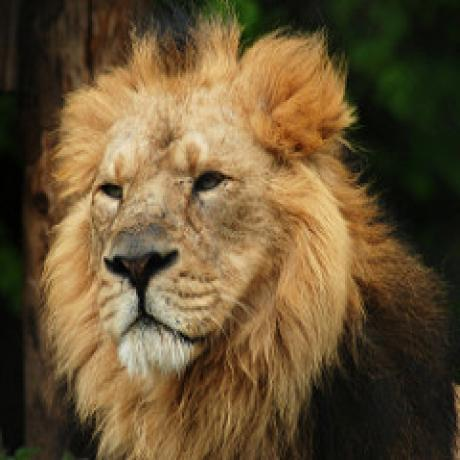Lion: (35, 27, 460, 460)
